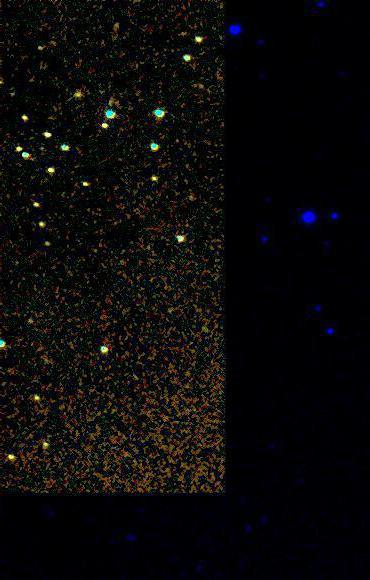star: (65, 82, 95, 112)
